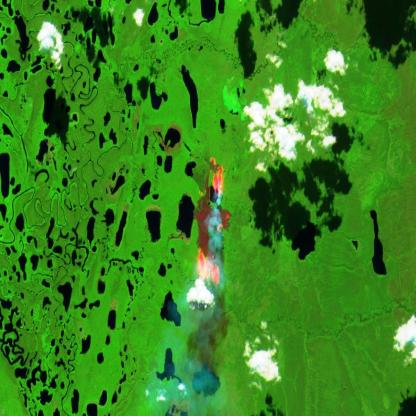fire: (194, 156, 228, 288)
